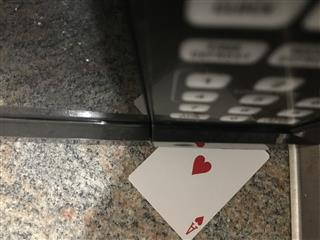AceOfHearts: (127, 146, 270, 240)
